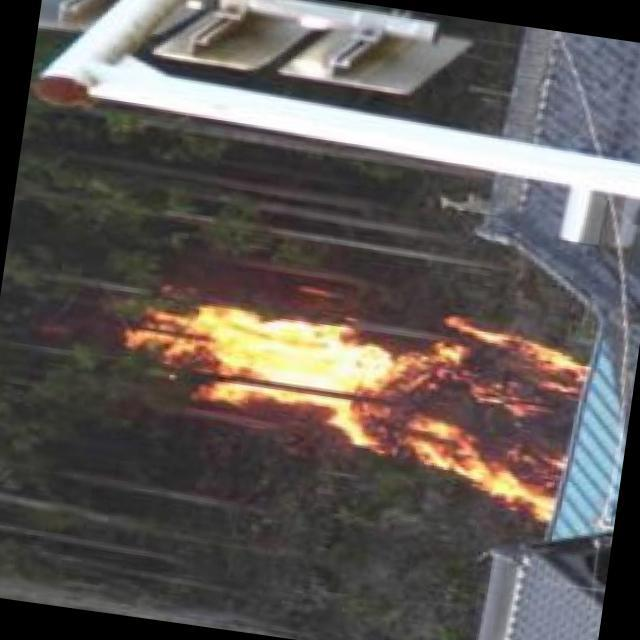Fire: (134, 283, 601, 518)
